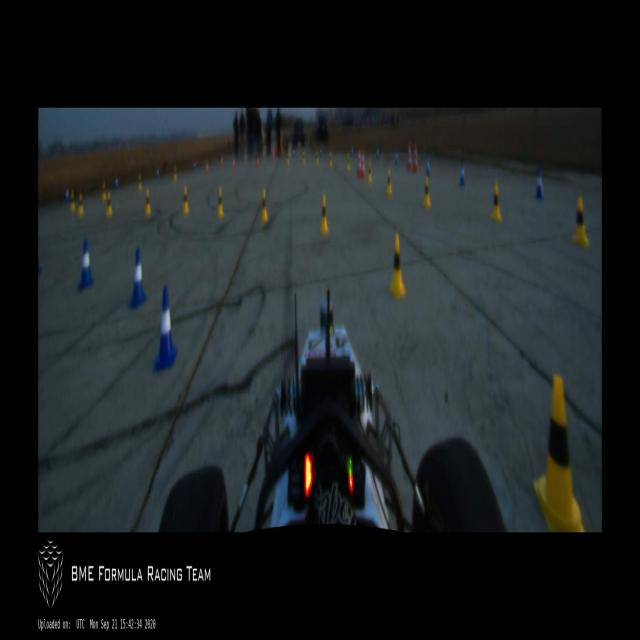blue_cone: (152, 286, 178, 373), (128, 248, 148, 310), (77, 238, 94, 291), (534, 168, 544, 200), (459, 162, 466, 186), (38, 248, 43, 274), (426, 155, 430, 177), (65, 186, 69, 204), (156, 165, 160, 181), (115, 174, 118, 191), (395, 151, 398, 166), (376, 148, 379, 160), (351, 146, 354, 158), (193, 161, 196, 172), (292, 147, 295, 158), (319, 147, 322, 157)
large_orange_cone: (412, 142, 418, 172), (360, 148, 365, 178), (407, 142, 412, 169), (357, 148, 361, 177)
orange_cone: (205, 160, 209, 175), (232, 157, 235, 171), (256, 154, 259, 168), (220, 156, 223, 169), (244, 153, 247, 165), (272, 150, 275, 161)
yellow_cone: (533, 376, 585, 532), (389, 233, 406, 296), (573, 197, 590, 249), (491, 184, 503, 224), (320, 196, 330, 235), (261, 189, 268, 223), (424, 176, 431, 209), (105, 189, 113, 217), (217, 188, 224, 218), (144, 190, 152, 216), (182, 186, 189, 214), (78, 192, 85, 217), (70, 191, 76, 212), (387, 169, 392, 194), (367, 162, 372, 183), (346, 152, 351, 171), (173, 164, 178, 182), (101, 182, 106, 200), (138, 171, 142, 192), (286, 151, 290, 166), (329, 152, 332, 168), (315, 151, 318, 166), (302, 150, 305, 165)
